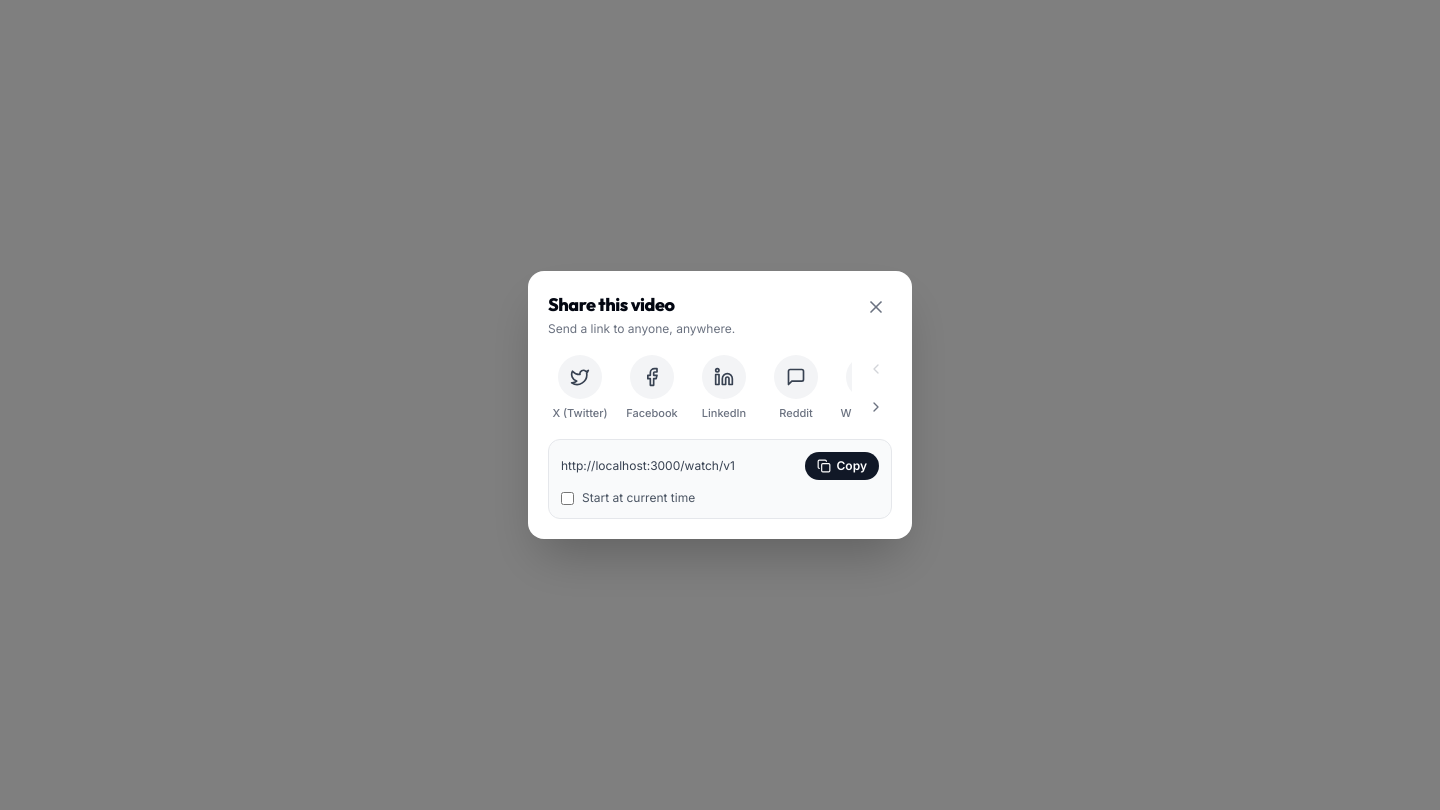
Scenario: ShareDialog › copies the link, shows Copied, and records the real share
Click the button "Copy" at (842, 466), box 804,452 -> 879,480
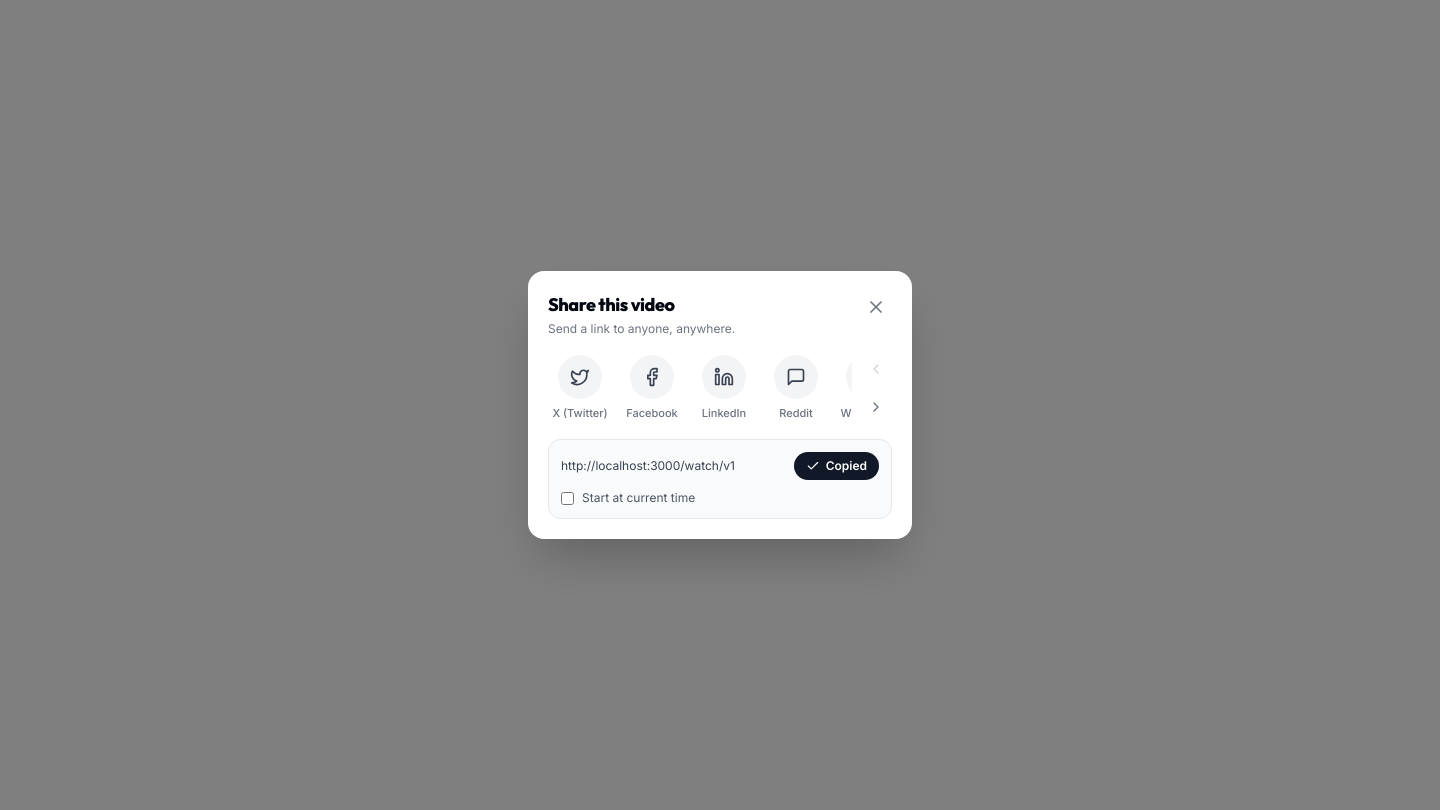
Expected: the button "Copied" is shown, 794,452 -> 879,480
